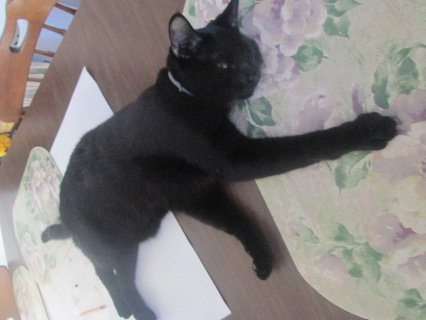Cat: (40, 0, 396, 319)
